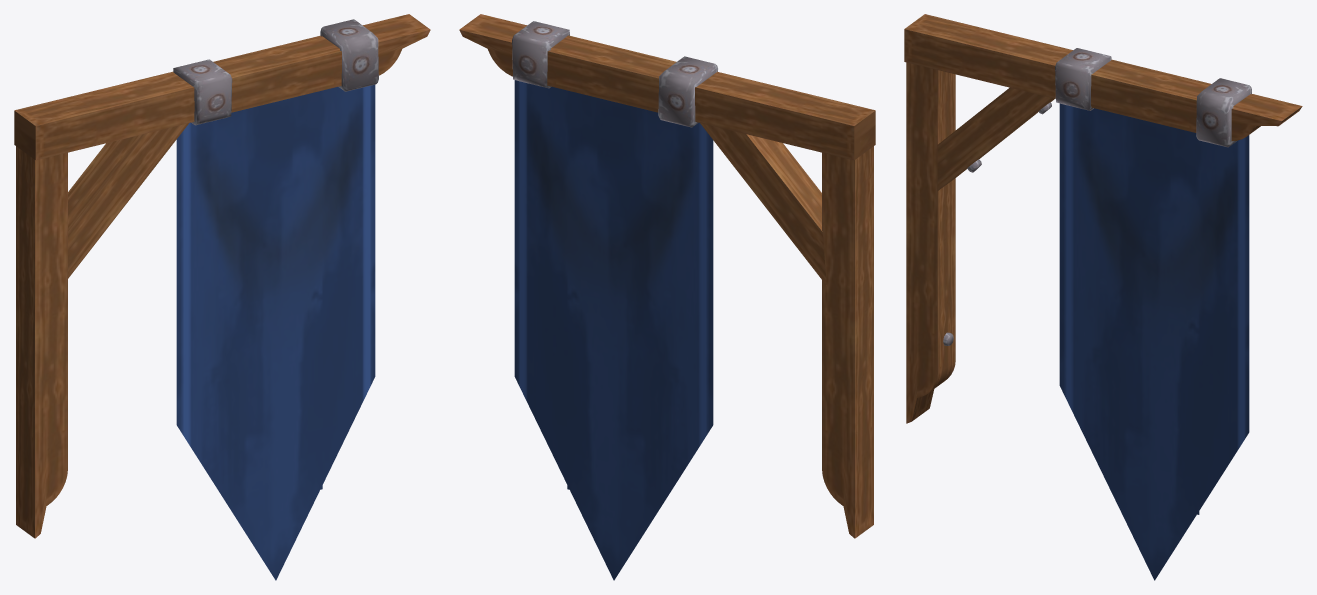
The model's file is Banner_2.gltf.
3 renders of one model, left to right at view 1: azimuth 30°, elevation 25°; view 2: azimuth 150°, elevation 25°; view 3: azimuth 330°, elevation 25°, orthographic. The views are drawn at different scales.
Parts seen in each view (by area): view 1: Banner_2; view 2: Banner_2; view 3: Banner_2.
Part boxes in pixels (x1=…): Banner_2: x1=14, y1=14, x2=430, y2=580; Banner_2: x1=459, y1=14, x2=875, y2=580; Banner_2: x1=904, y1=14, x2=1302, y2=580.
Size of the model in its own units: 1.61 by 2.08 by 0.1906.
3 materials, 3 textured.
